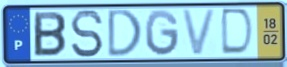B: (32, 10, 68, 59)
D: (106, 8, 144, 60), (219, 7, 256, 58)
G: (143, 8, 181, 58)
S: (69, 8, 105, 60)
V: (179, 7, 219, 58)
